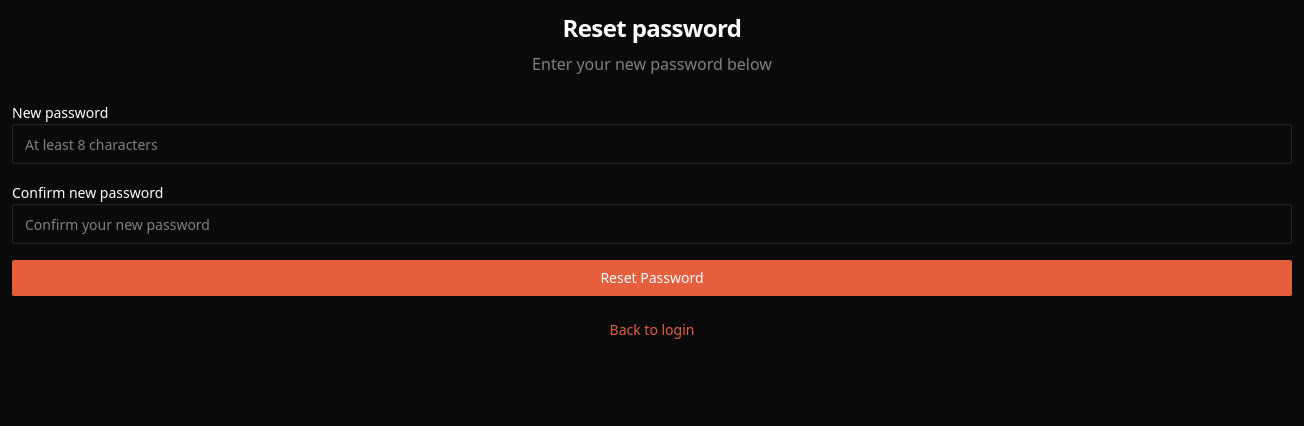
Test: ResetPasswordPage › shows error message on failure
Type "newpassword123" into the password field labelled "New password" at (652, 144), box [12,124,1292,164]
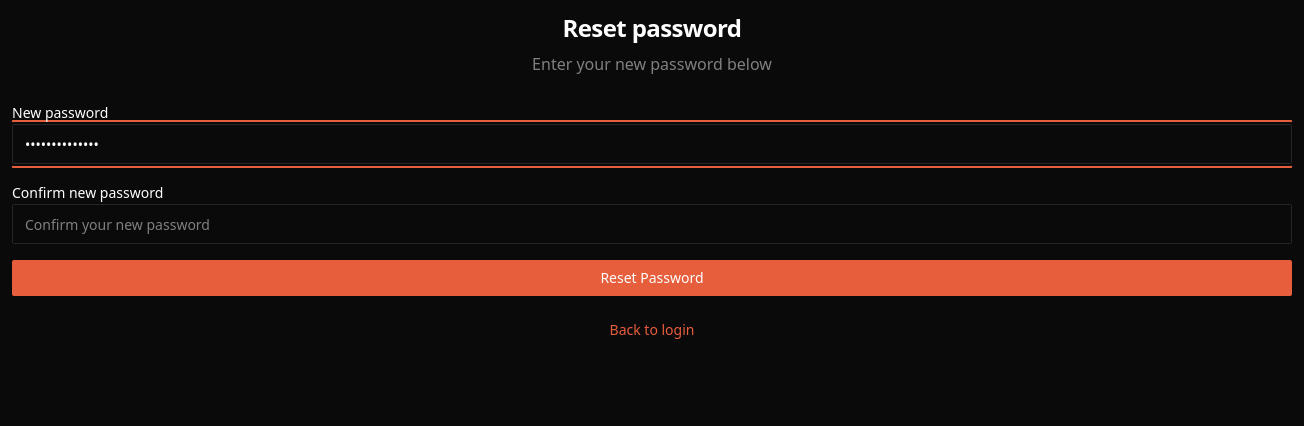
Type "newpassword123" into the password field labelled "Confirm new password" at (652, 224), box [12,204,1292,244]
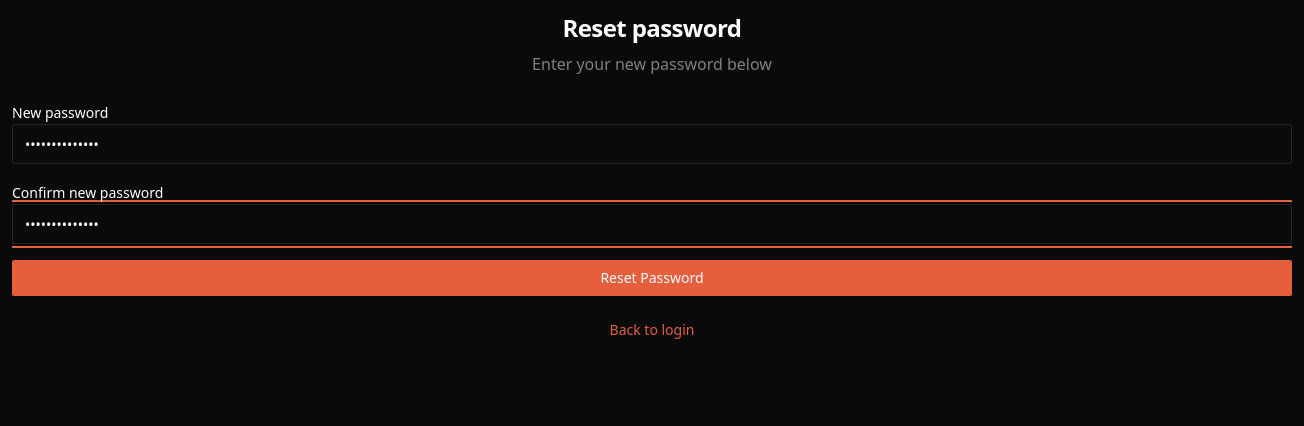
Click the button "Reset Password" at (652, 278), box [12,260,1292,296]
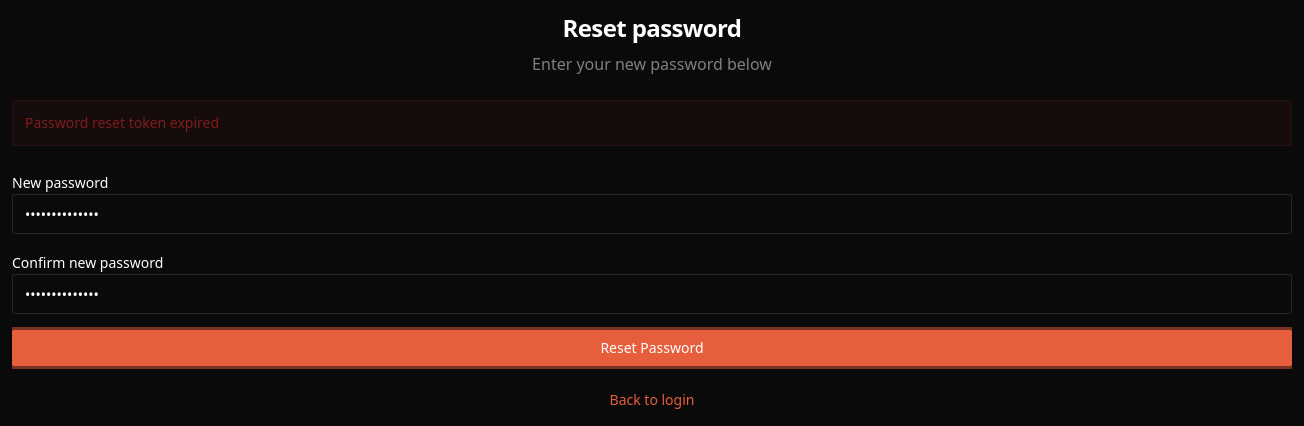
Now the text "Password reset token expired" is shown, box [12,100,1292,146]
